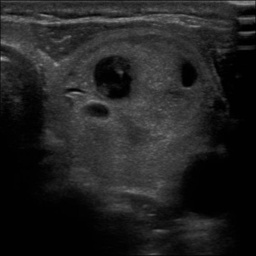mass: (64, 34, 204, 179)
